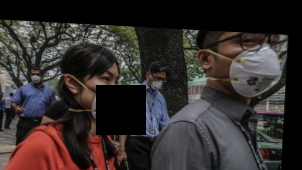with_mask: (212, 33, 283, 98), (78, 69, 125, 120), (149, 74, 167, 92), (29, 71, 42, 84)
